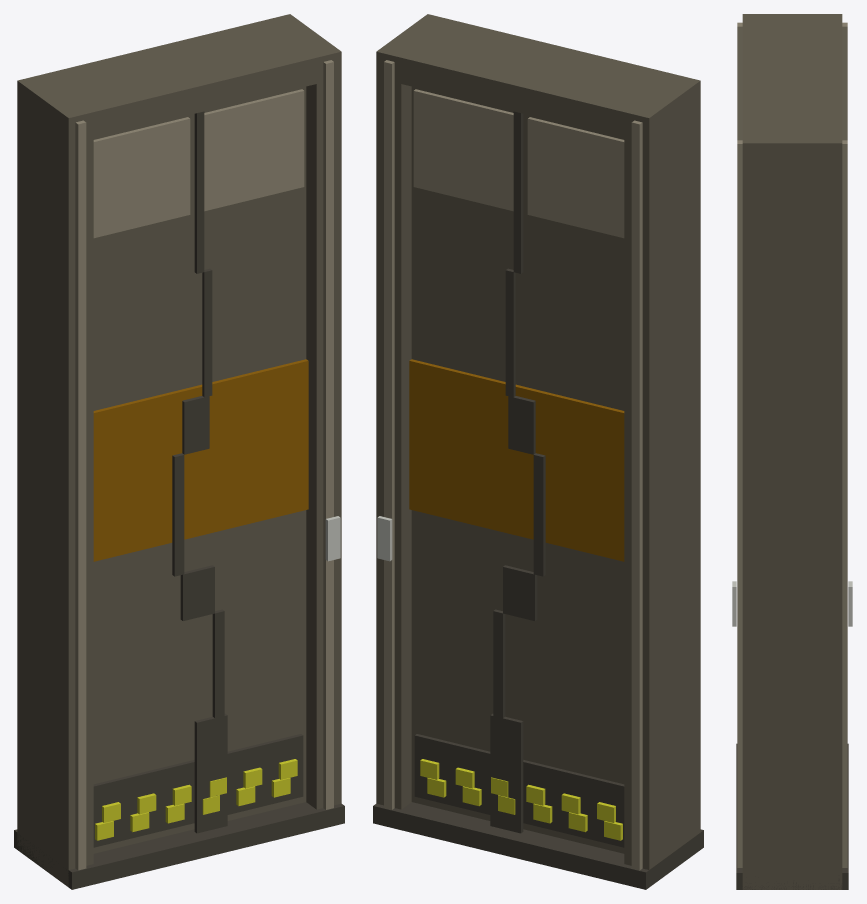
The model's file is CMU3DSingleEngineerGovforDoor.glb.
3 views of the same model, side by side, from view 1: azimuth 30°, elevation 25°; view 2: azimuth 150°, elevation 25°; view 3: azimuth 270°, elevation 25° (orthographic). The views are drawn at different scales.
Parts seen in each view (by area): view 1: closed leaf body, door jamb (×2), department color band, header, upper inset band (×2), jamb raised edge (×2), leaf meeting seam (×7), lower hazard backing, threshold, side access reader; view 2: closed leaf body, door jamb (×2), department color band back, header, upper inset band back (×2), jamb raised edge (×2), leaf meeting seam back (×7), threshold, lower hazard backing back, side access reader back; view 3: door jamb (×2), header, jamb raised edge (×4), threshold.
Boxes of the visible parts, x1=… form: closed leaf body: x1=93, y1=86, x2=306, y2=853; door jamb (×2): x1=17, y1=14, x2=341, y2=887; department color band: x1=93, y1=359, x2=308, y2=561; header: x1=17, y1=14, x2=341, y2=144; upper inset band (×2): x1=93, y1=89, x2=304, y2=238; jamb raised edge (×2): x1=75, y1=60, x2=333, y2=870; leaf meeting seam (×7): x1=172, y1=111, x2=227, y2=833; lower hazard backing: x1=93, y1=734, x2=303, y2=847; threshold: x1=14, y1=802, x2=344, y2=889; side access reader: x1=325, y1=516, x2=340, y2=561; closed leaf body: x1=411, y1=86, x2=624, y2=853; door jamb (×2): x1=376, y1=14, x2=700, y2=869; department color band back: x1=409, y1=359, x2=624, y2=561; header: x1=376, y1=14, x2=700, y2=144; upper inset band back (×2): x1=413, y1=89, x2=624, y2=238; jamb raised edge (×2): x1=384, y1=60, x2=642, y2=870; leaf meeting seam back (×7): x1=490, y1=111, x2=545, y2=833; threshold: x1=373, y1=802, x2=703, y2=889; lower hazard backing back: x1=414, y1=734, x2=624, y2=847; side access reader back: x1=377, y1=516, x2=392, y2=561; door jamb (×2): x1=742, y1=14, x2=842, y2=889; header: x1=742, y1=14, x2=842, y2=168; jamb raised edge (×4): x1=737, y1=22, x2=847, y2=867; threshold: x1=736, y1=743, x2=848, y2=889.
Bounding box in the file's own units: 0.98 × 2.64 × 0.386.
